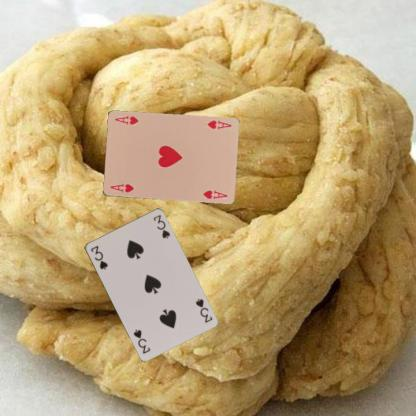3s: (192, 296, 214, 324), (88, 243, 108, 271)
Ah: (107, 181, 136, 194), (205, 118, 232, 131)
